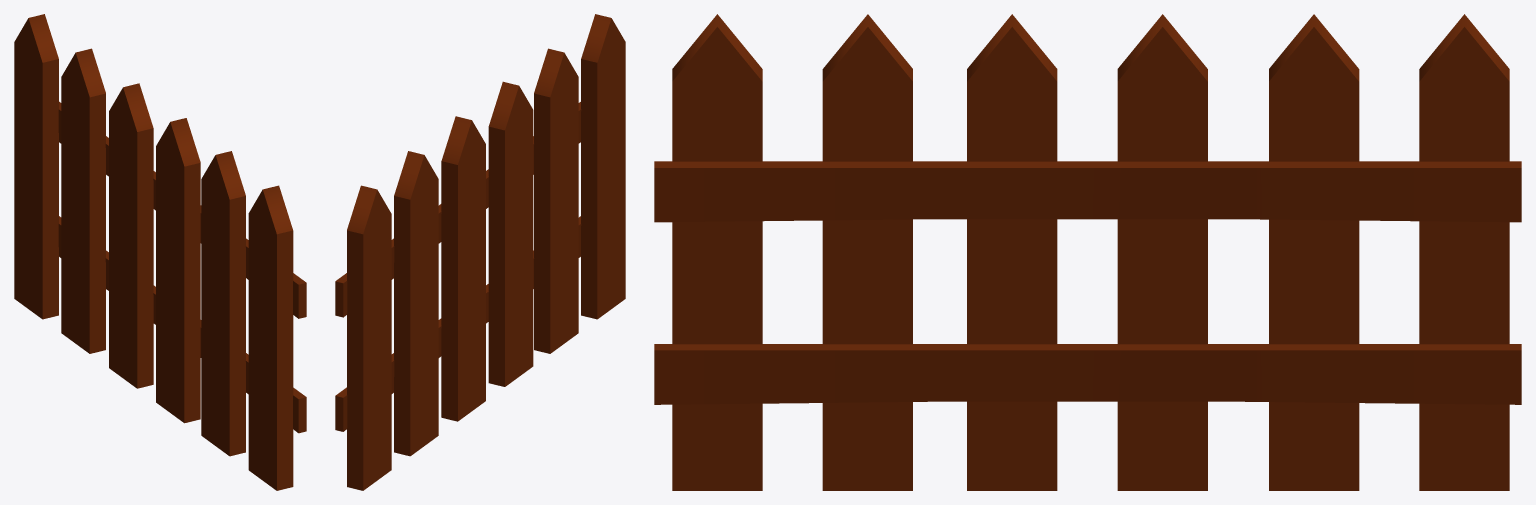
Rendered from WallX3.FBX.
The picture shows the model from 3 angles, left to right: view 1: azimuth 30°, elevation 25°; view 2: azimuth 150°, elevation 25°; view 3: azimuth 270°, elevation 25°; orthographic projection. The views are drawn at different scales.
Visible parts, largest first — view 1: Body; view 2: Body; view 3: Body.
Boxes of the visible parts, x1,y1,x2,y2 form: Body: (14, 14, 306, 490); Body: (335, 14, 625, 490); Body: (654, 14, 1521, 490).
Bounding box in the file's own units: 0.1479 × 1.7 × 2.88.
